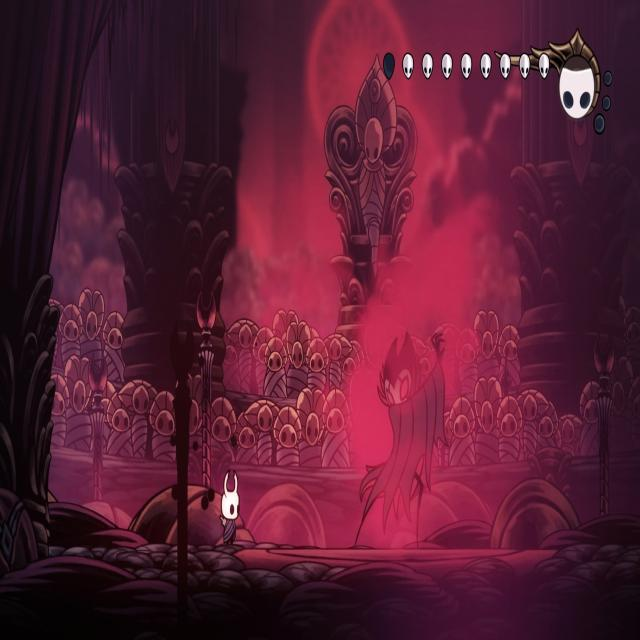Dash Uppercut: (348, 322, 452, 546)
Player: (216, 462, 244, 548)
